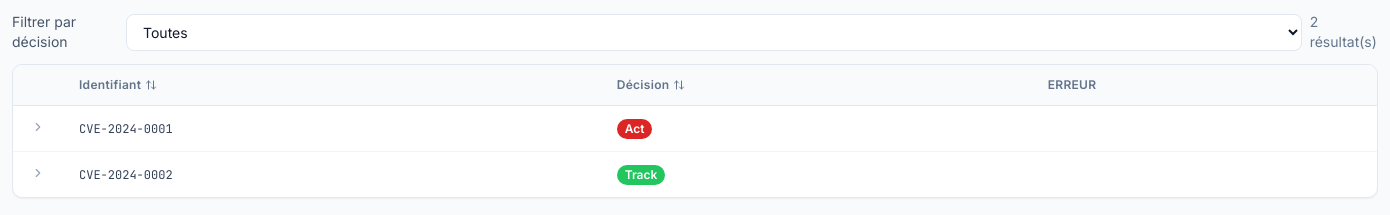
it: BatchResultsTable › liste les résultats et filtre par décision
Expected: the text "CVE-2024-0001" is shown, [63,106,601,152]
Select "Track" in the dropdown labelled "Filtrer par décision" at (714, 32), box [126,14,1302,50]
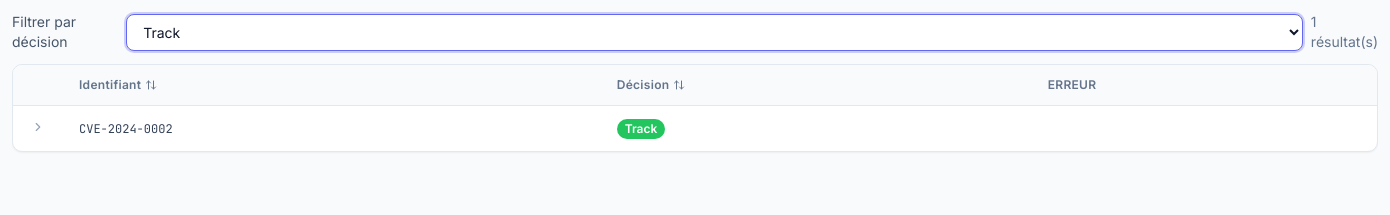
Expected: the text "CVE-2024-0002" is shown, [63,106,601,151]
Now the text "CVE-2024-0001" is gone
